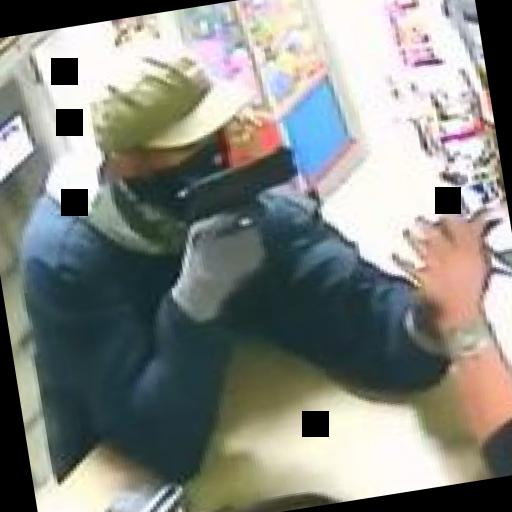Handgun: (161, 138, 314, 278)
